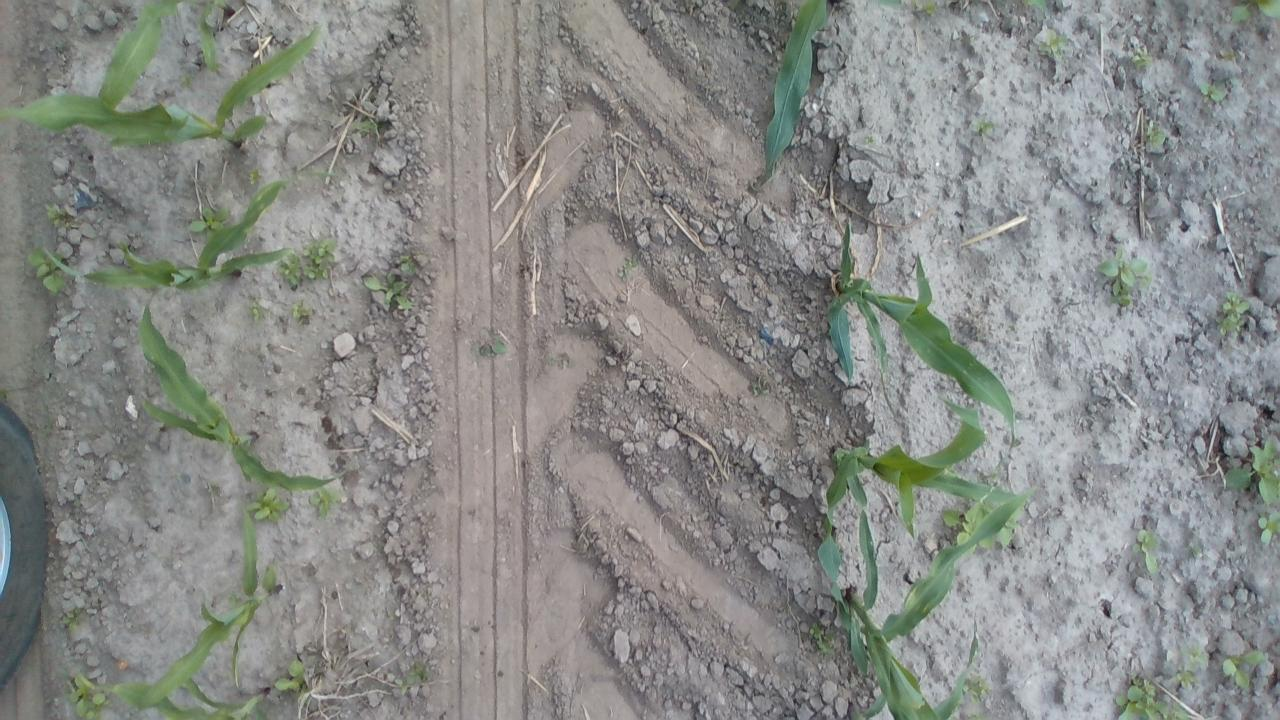Maize: (0, 0, 324, 155), (75, 485, 288, 720), (816, 393, 1031, 612), (827, 222, 1019, 454), (135, 303, 355, 488), (43, 171, 343, 299), (812, 526, 992, 719), (754, 1, 827, 184)
Weeds: (273, 229, 341, 298), (1219, 434, 1280, 510), (946, 504, 1018, 558), (1108, 673, 1184, 720), (362, 251, 418, 312), (1100, 249, 1153, 309), (1220, 643, 1267, 700), (1130, 522, 1173, 582), (60, 670, 111, 718), (28, 250, 68, 298), (249, 487, 296, 523), (1229, 0, 1280, 31), (36, 198, 86, 229), (1140, 115, 1176, 158), (473, 332, 518, 366), (1199, 70, 1232, 112), (803, 624, 836, 664), (1220, 290, 1246, 340), (272, 656, 306, 694), (395, 662, 435, 694), (1125, 43, 1159, 80), (308, 483, 342, 520), (618, 240, 646, 283), (1044, 34, 1078, 64), (191, 206, 228, 232), (1185, 642, 1211, 678), (1253, 513, 1280, 546), (962, 116, 998, 140), (242, 298, 266, 334), (56, 607, 79, 633), (966, 680, 989, 704), (283, 304, 313, 320)
